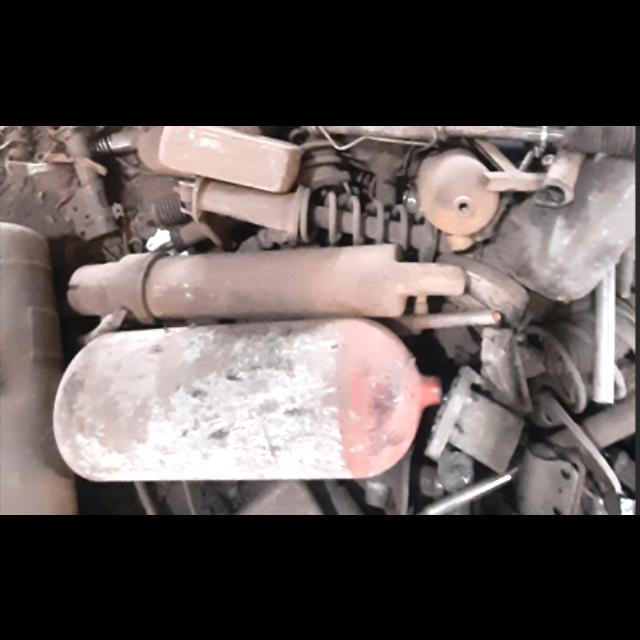Cylinders: (44, 316, 444, 480)
Shock Absorber: (177, 177, 462, 261)
